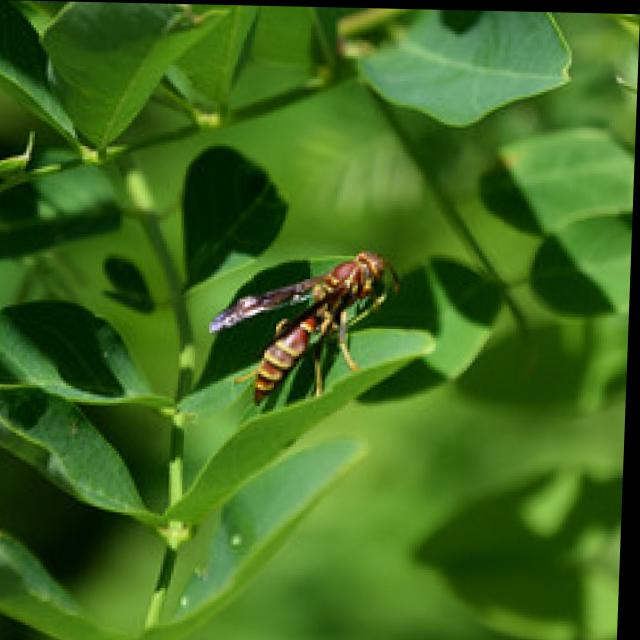Guepe: (201, 238, 426, 420)
